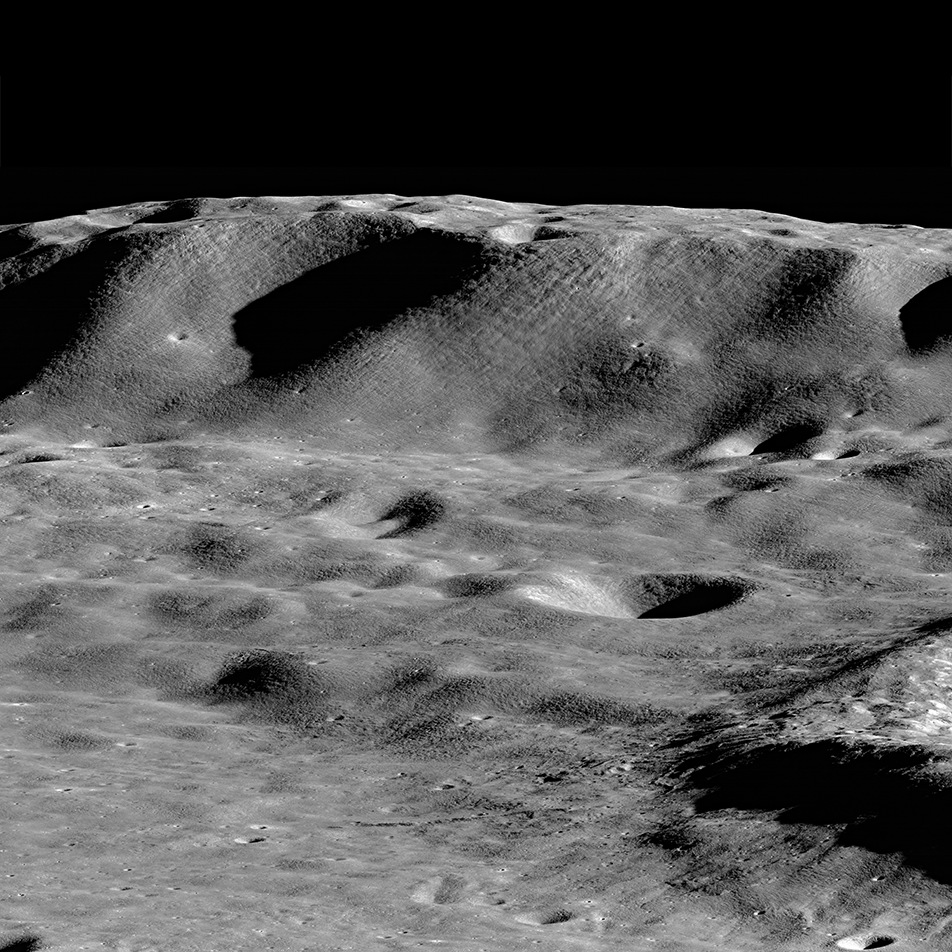crater: (475, 532, 845, 669)
